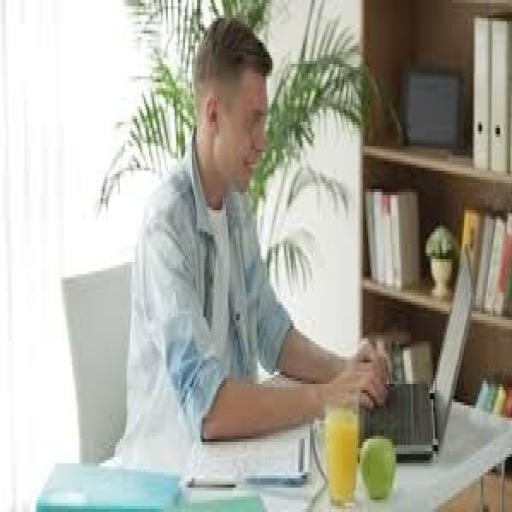using_laptop: (355, 238, 476, 460)
